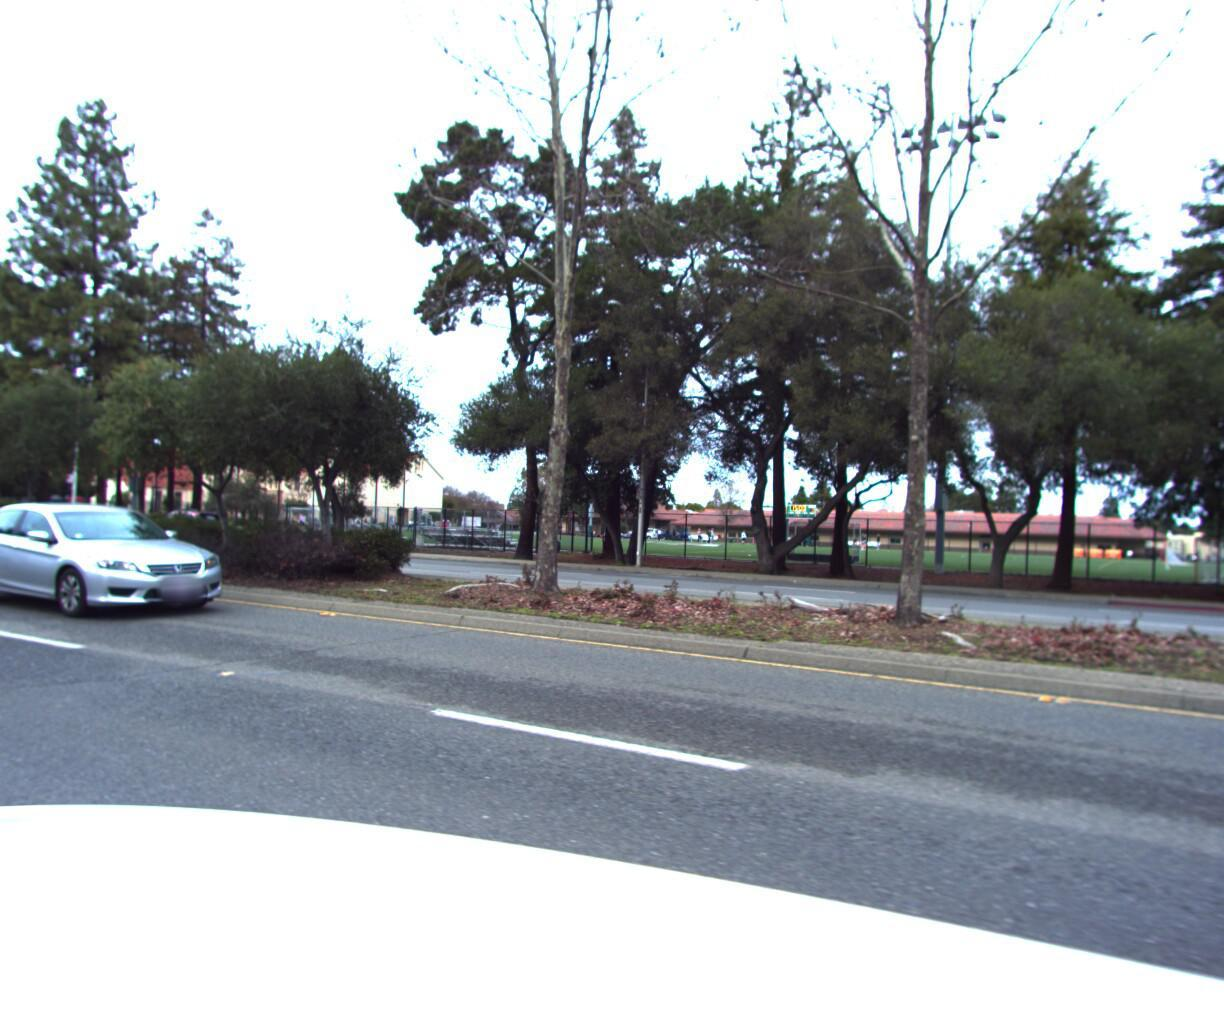car: (0, 485, 254, 630), (139, 508, 231, 547)
